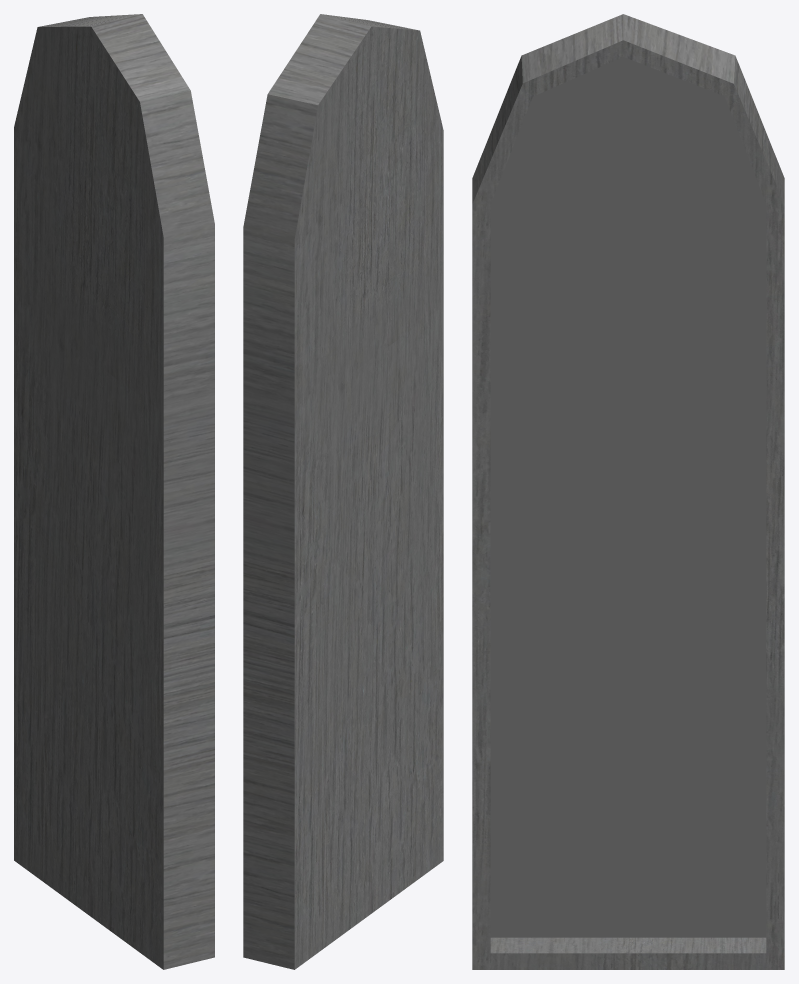
Rendered from SingleWindow.obj.
The picture shows the model from 3 angles, left to right: view 1: azimuth 30°, elevation 25°; view 2: azimuth 150°, elevation 25°; view 3: azimuth 270°, elevation 25°; orthographic projection. The views are drawn at different scales.
Parts seen in each view (by area): view 1: polySurface31 polySurface30 polySurface19 polySurface17 polySurf; view 2: polySurface31 polySurface30 polySurface19 polySurface17 polySurf; view 3: polySurface31 polySurface30 polySurface19 polySurface17 polySurf.
Boxes of the visible parts, x1,y1,x2,y2 form: polySurface31 polySurface30 polySurface19 polySurface17 polySurf: [14, 14, 214, 969]; polySurface31 polySurface30 polySurface19 polySurface17 polySurf: [243, 14, 443, 969]; polySurface31 polySurface30 polySurface19 polySurface17 polySurf: [472, 14, 784, 969].
Size of the model in its own units: 3.37 by 55.73 by 16.96.
2 materials, 1 textured.
